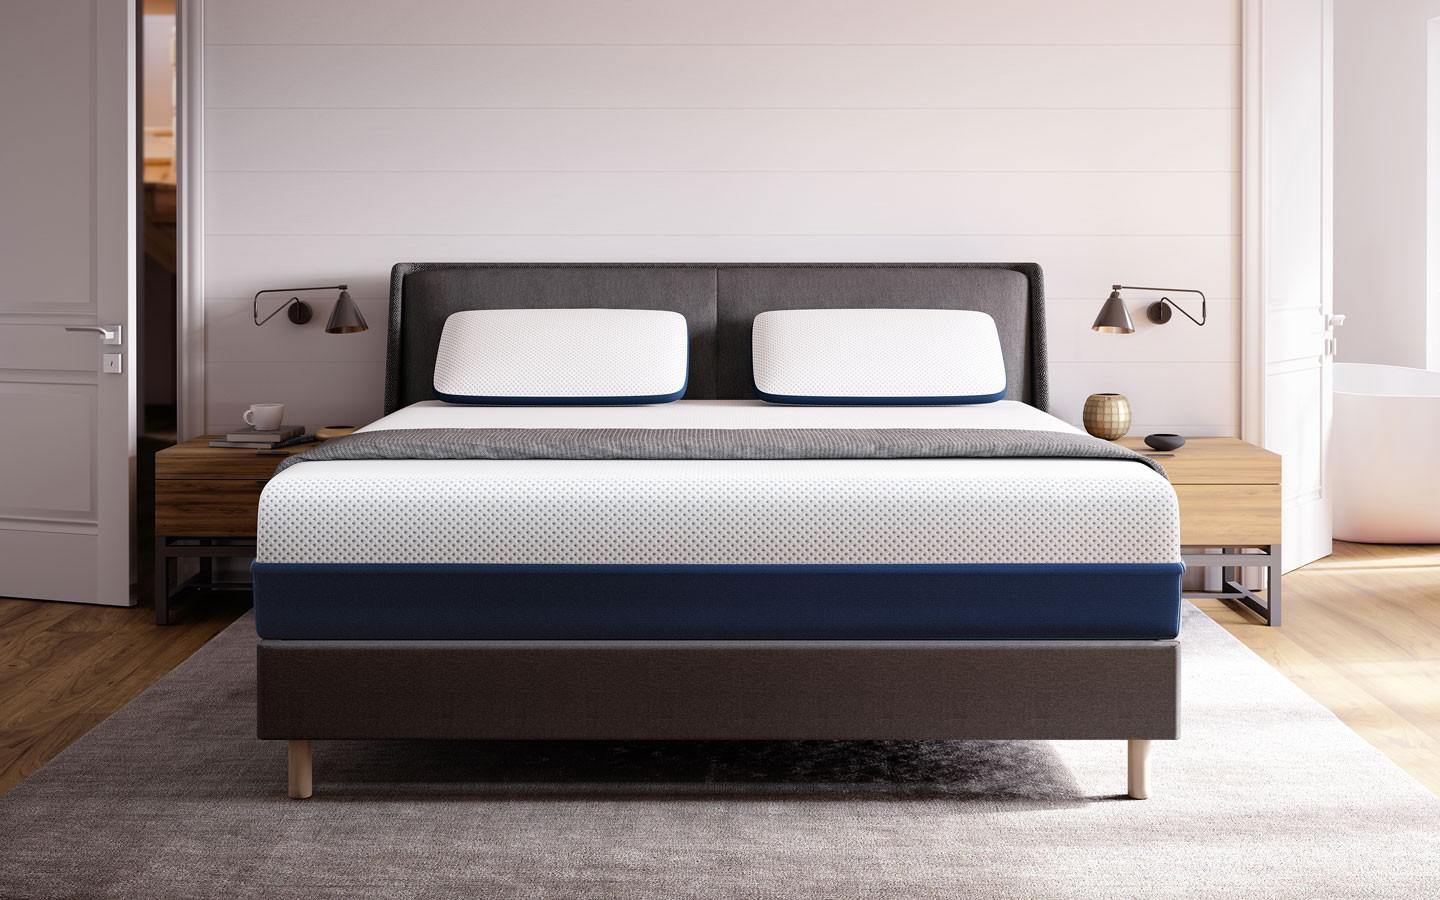bed: (222, 241, 1223, 806)
